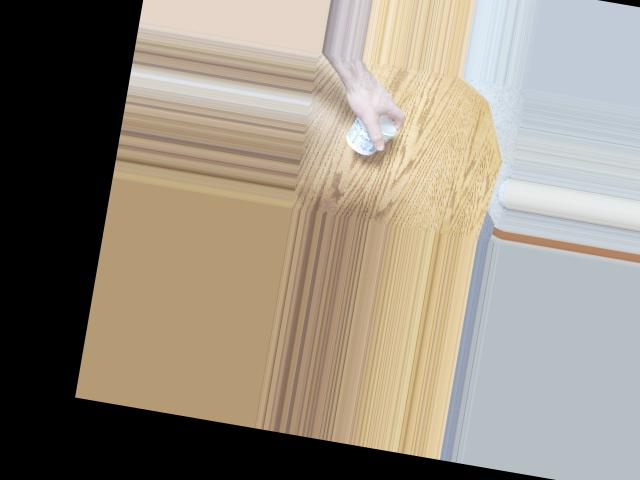cotage: (338, 109, 400, 161)
